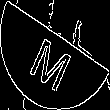M_NE: (30, 22, 80, 88)
